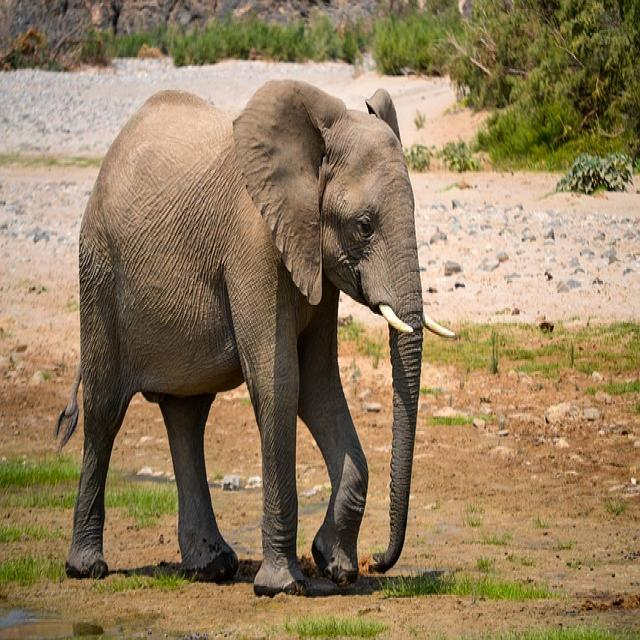elephant: (58, 81, 446, 595)
